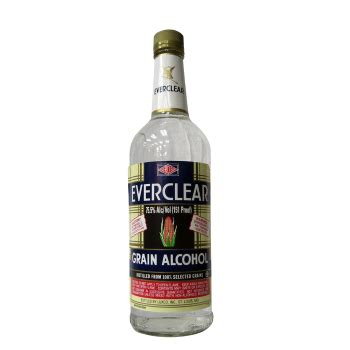alcohol: (125, 29, 215, 338)
